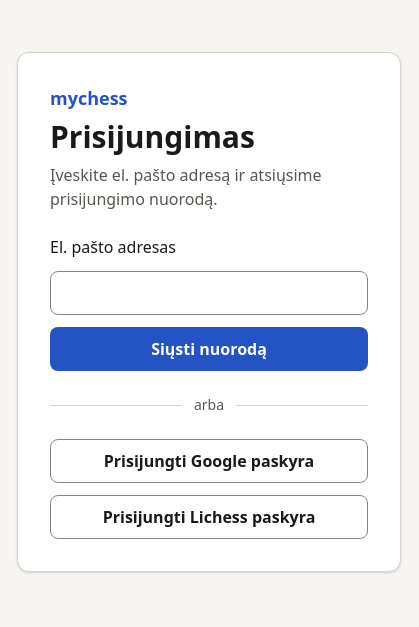
SignInForm › says to wait when too many links were asked for
Step 1. Type "ruta@example.lt" into the field labelled "El. pašto adresas" → (209, 293), box [50, 271, 368, 315]
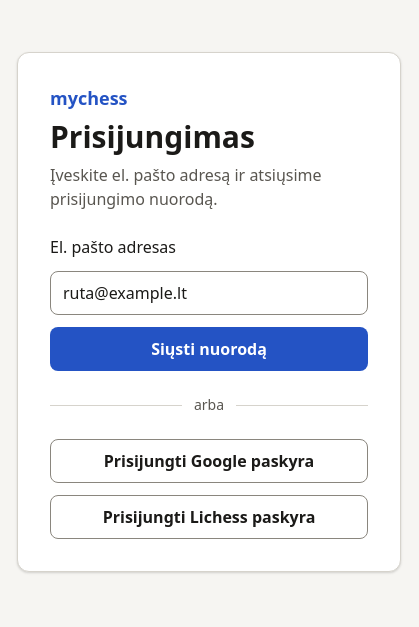
Step 2. Click the button "Siųsti nuorodą" → (209, 349), box [50, 327, 368, 371]
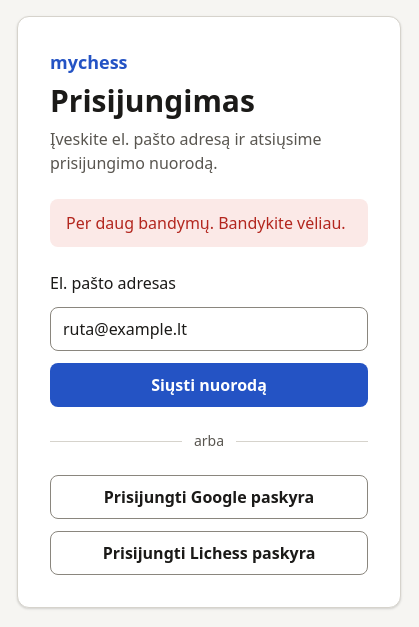
Now the message reads "Per daug bandymų. Bandykite vėliau.", box [66, 212, 346, 234]
